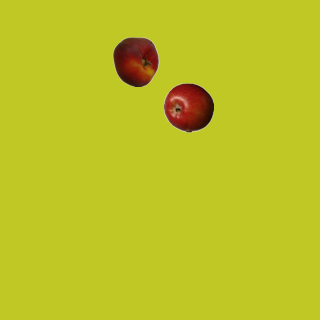Apple Braeburn: (163, 82, 213, 132)
Nectarine Flat: (110, 36, 160, 86)
